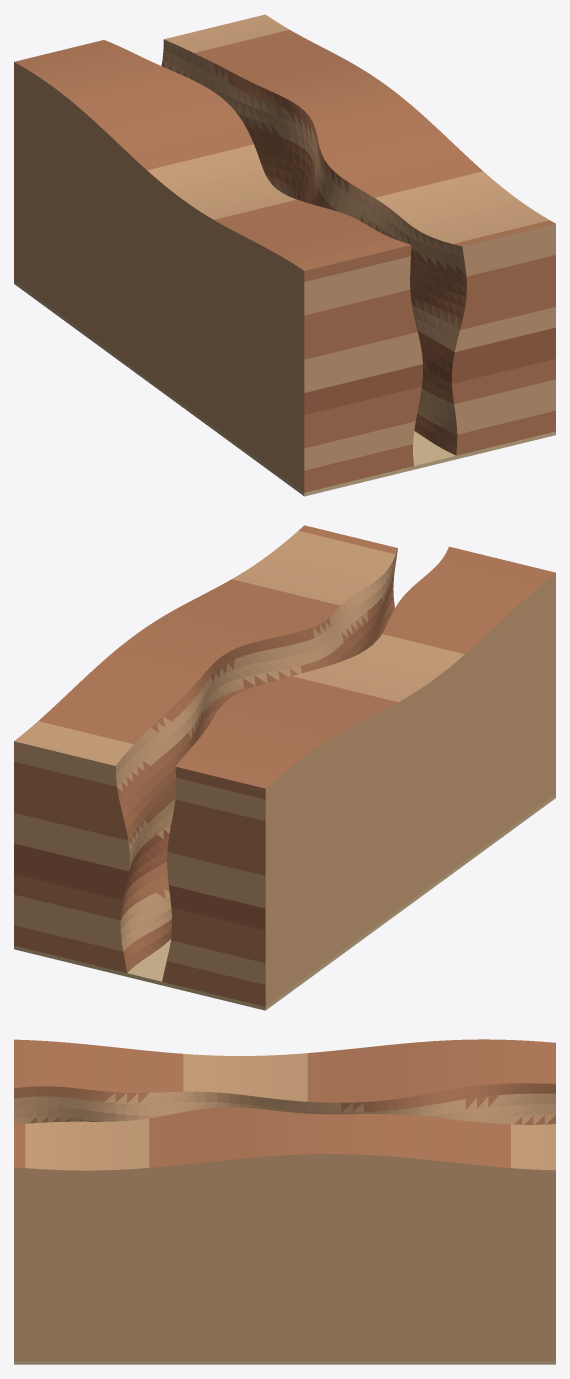
File: slot-canyon.glb
3 renders of one model, top to bottom at view 1: azimuth 30°, elevation 25°; view 2: azimuth 150°, elevation 25°; view 3: azimuth 270°, elevation 25°, orthographic. The views are drawn at different scales.
Visible parts, largest first — view 1: west_solid_fluted_canyon_wall, east_solid_fluted_canyon_wall, dry_channel_floor_substrate; view 2: west_solid_fluted_canyon_wall, east_solid_fluted_canyon_wall, dry_channel_floor_substrate; view 3: east_solid_fluted_canyon_wall, west_solid_fluted_canyon_wall, dry_channel_floor_substrate.
Boxes of the visible parts, x1,y1,x2,y2 form: west_solid_fluted_canyon_wall: (14,40,422,492); east_solid_fluted_canyon_wall: (161,14,555,455); dry_channel_floor_substrate: (14,280,555,496); west_solid_fluted_canyon_wall: (162,546,555,1006); east_solid_fluted_canyon_wall: (14,525,397,972); dry_channel_floor_substrate: (14,794,555,1010); east_solid_fluted_canyon_wall: (14,1107,555,1360); west_solid_fluted_canyon_wall: (14,1039,555,1124); dry_channel_floor_substrate: (14,1361,555,1364).
Bounding box in the file's own units: 14 × 12 × 28.
